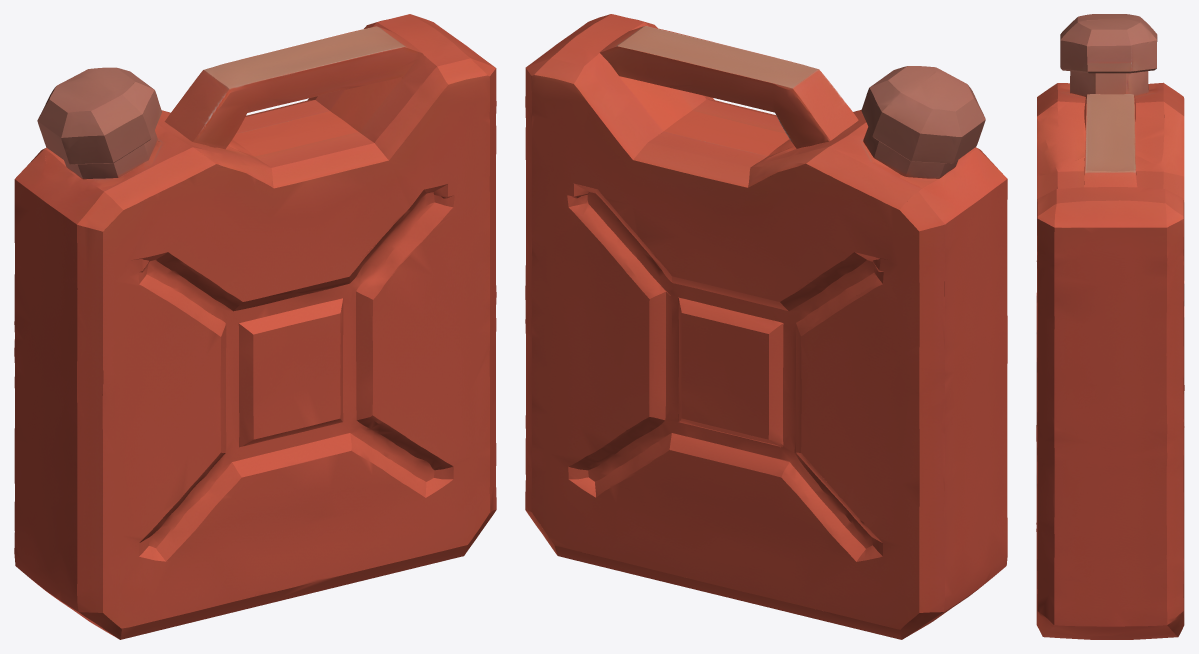
Rendered from jerry_can.glb.
The picture shows the model from 3 angles, left to right: view 1: azimuth 30°, elevation 25°; view 2: azimuth 150°, elevation 25°; view 3: azimuth 270°, elevation 25°; orthographic projection. The views are drawn at different scales.
Visible parts, largest first — view 1: model; view 2: model; view 3: model.
Part boxes in pixels (bbox=[...]): model: bbox=[14, 14, 496, 639]; model: bbox=[525, 14, 1007, 639]; model: bbox=[1036, 14, 1184, 639].
Bounding box in the file's own units: 1.56 × 1.87 × 0.5284.
1 material, 1 textured.
